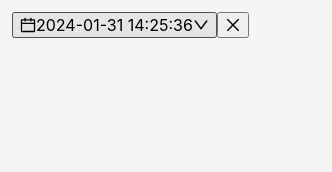
Scenario: 手机日期下拉 › 月末和闰年选择不会跳月，确定后才提交，保留秒和时区语义
The width and height of the screenshot is (332, 172).
Click the button named "日期时间".
click(114, 25)  # box x1=12 y1=12 x2=217 y2=38
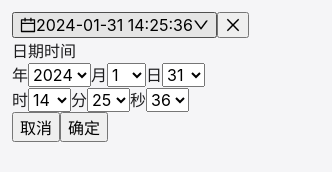
Select "2" in the dropdown named "日期时间 · 月" at (126, 75), box x1=107 y1=63 x2=146 y2=87
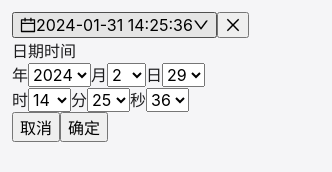
Expected: the dropdown named "日期时间 · 日" shows "29", x1=162 y1=63 x2=205 y2=87
Select "2025" in the dropdown named "日期时间 · 年" at (60, 75), box x1=28 y1=63 x2=91 y2=87
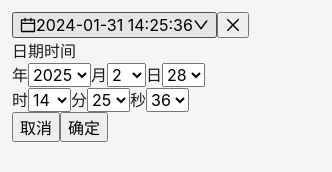
Expected: the dropdown named "日期时间 · 日" shows "28", x1=162 y1=63 x2=205 y2=87
Click the button "确定".
click(84, 127)  # box x1=60 y1=112 x2=108 y2=142
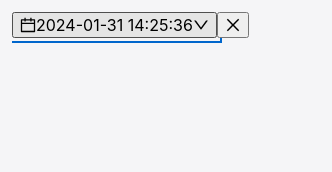
Expected: the dropdown labelled "日期时间 · 月" is gone
